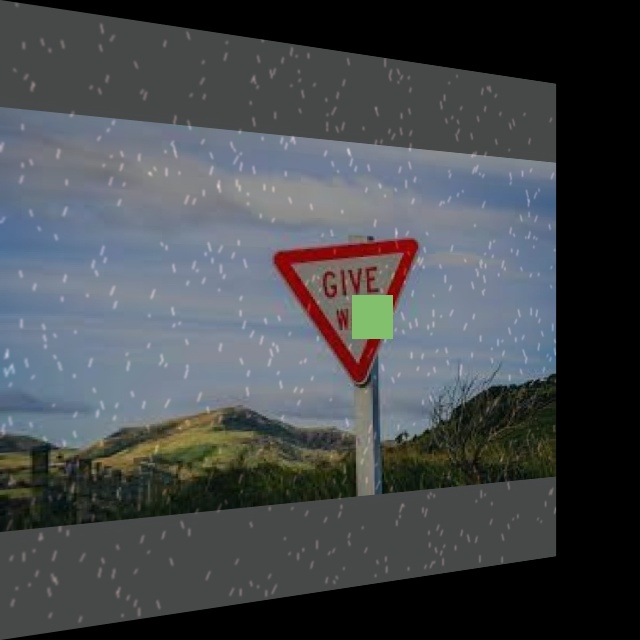Give_Way: (274, 236, 421, 383)
